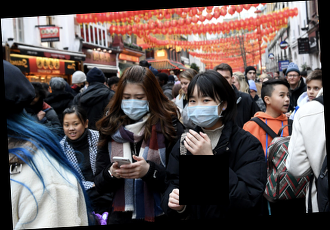with_mask: (185, 92, 219, 128), (120, 91, 149, 122)
without_mask: (271, 88, 291, 114), (62, 118, 84, 140), (305, 83, 322, 100), (285, 71, 299, 85), (179, 80, 190, 94), (245, 71, 257, 81)
